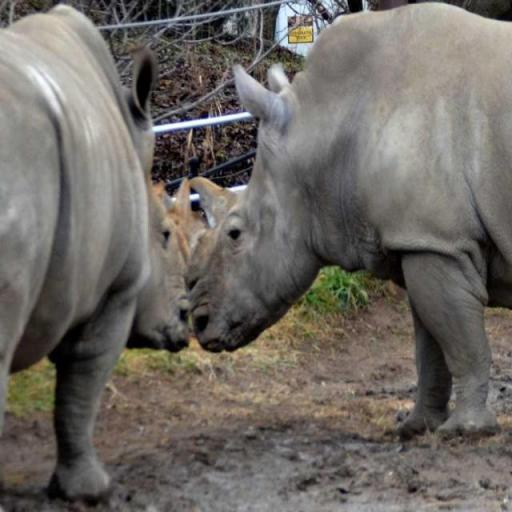Rhino: (183, 0, 511, 442)
